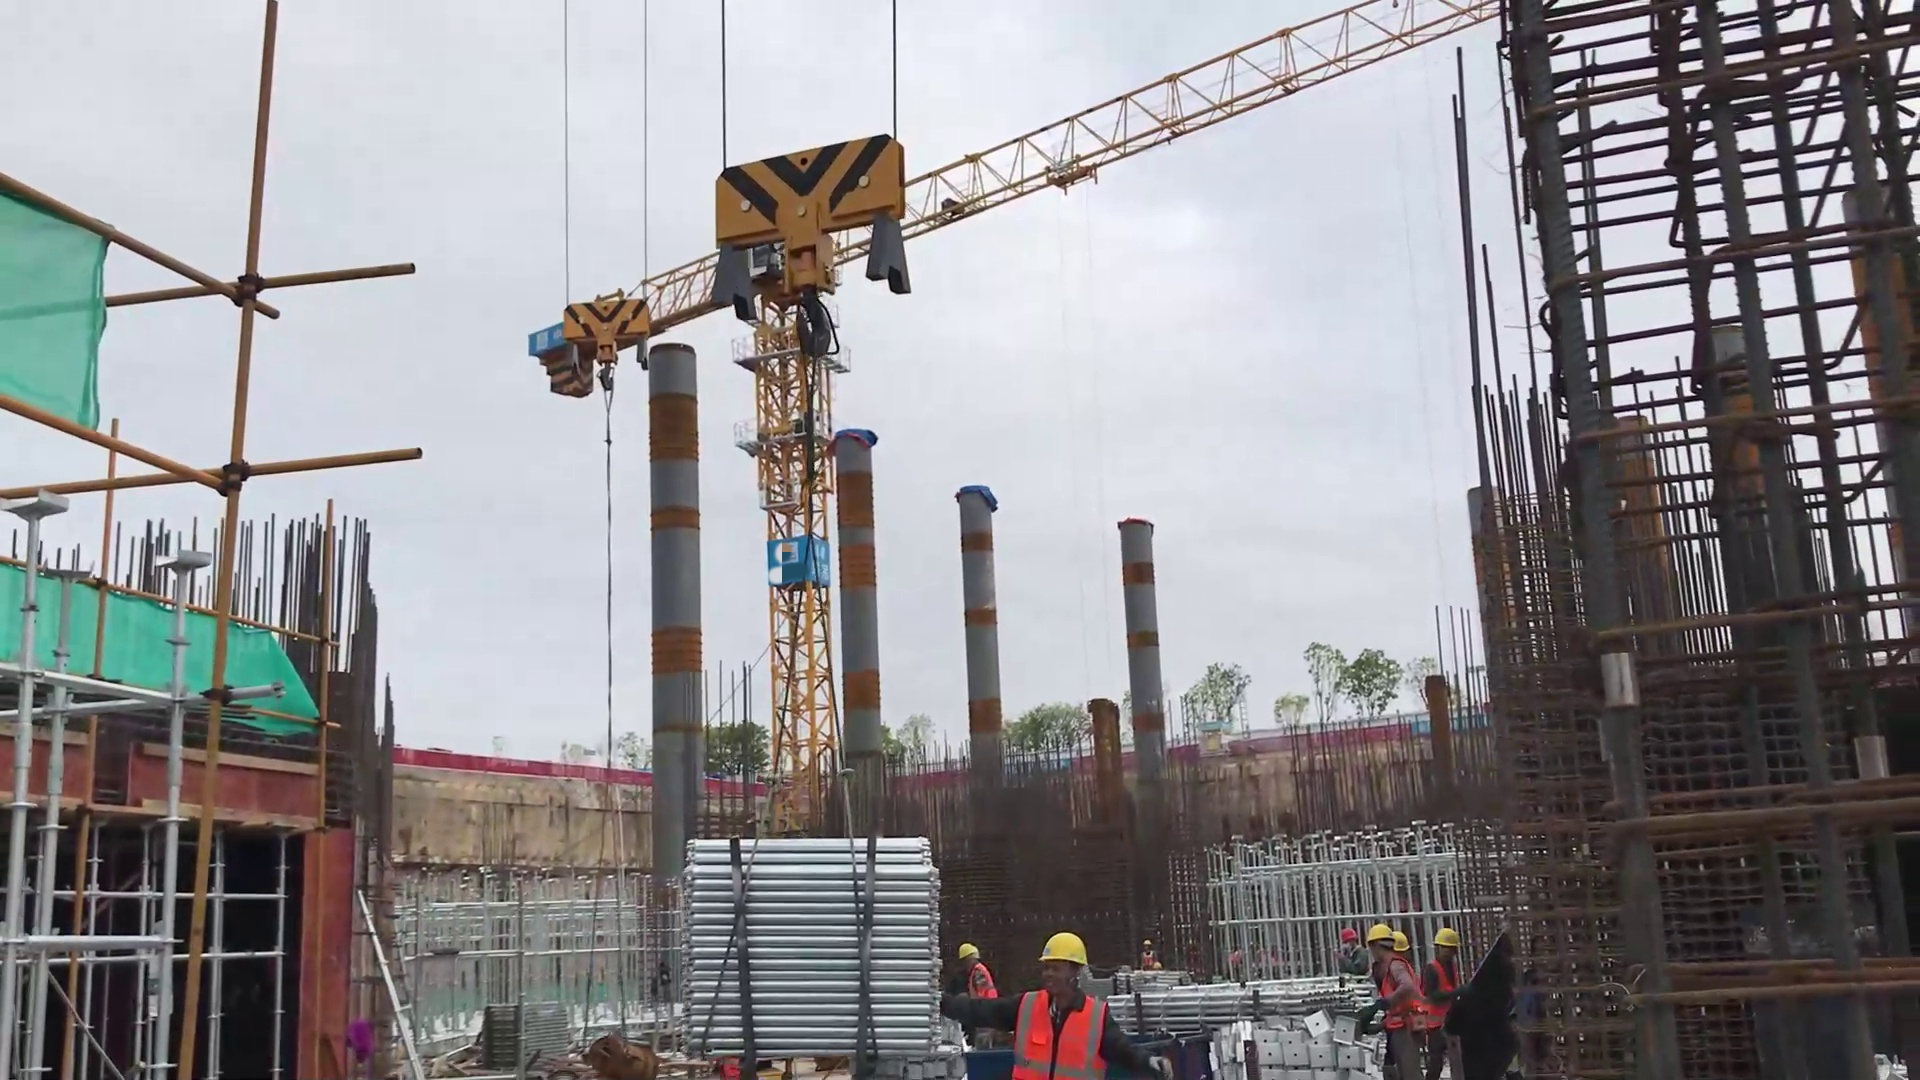helmet: (1012, 918, 1106, 973), (1361, 916, 1475, 960)
hook: (706, 124, 936, 362), (542, 291, 658, 377)
person: (975, 908, 1102, 1080), (1366, 918, 1427, 1070), (1424, 923, 1481, 1064)
scaffold: (658, 815, 970, 1069)
vest: (1005, 983, 1133, 1080), (1423, 946, 1474, 1023), (1378, 957, 1427, 1027)
